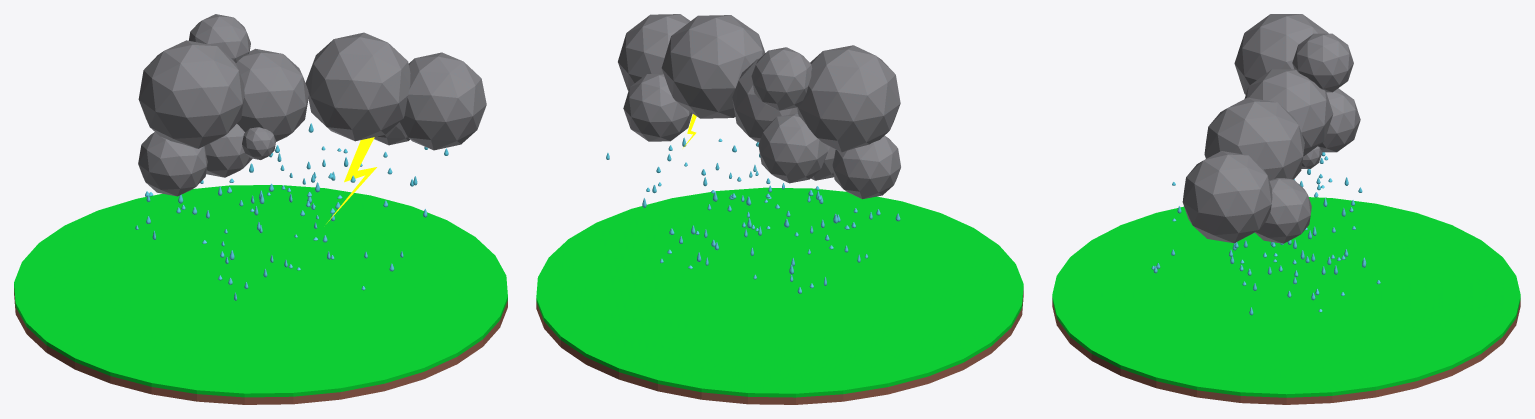
The model's file is storm.glb.
3 views of the same model, side by side, from view 1: azimuth 30°, elevation 25°; view 2: azimuth 150°, elevation 25°; view 3: azimuth 270°, elevation 25° (orthographic). The views are drawn at different scales.
Parts seen in each view (by area): view 1: Circle; view 2: Circle; view 3: Circle.
Part boxes in pixels (left/top/right/bottom): Circle: left=14, top=14, right=507, bottom=404; Circle: left=536, top=14, right=1023, bottom=404; Circle: left=1052, top=14, right=1520, bottom=404.
Bounding box in the file's own units: 10 × 6.14 × 10.
3 materials, 3 textured.
